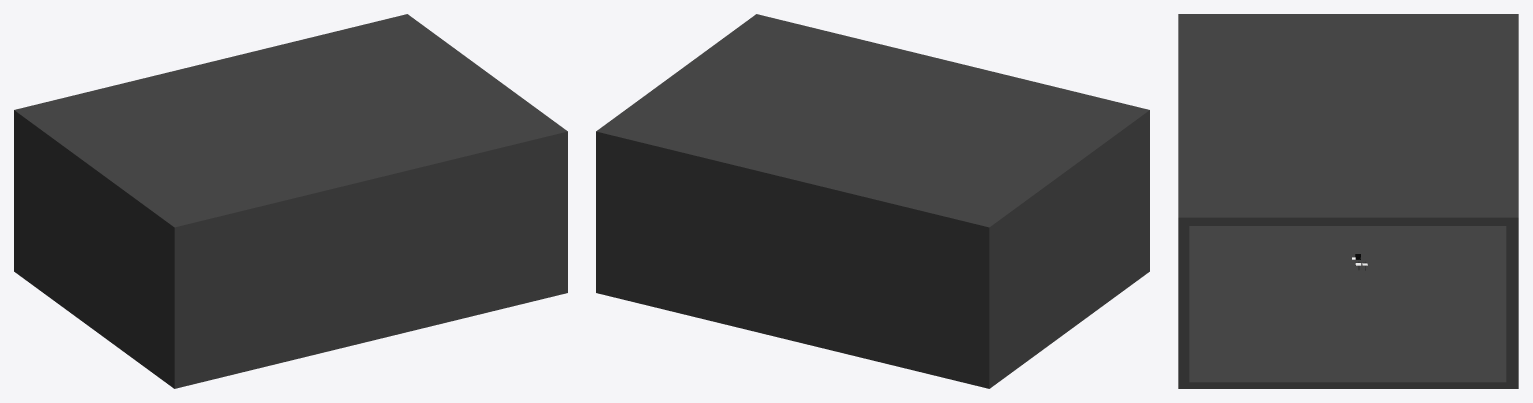
Rendered from Structure.glb.
The picture shows the model from 3 angles, left to right: view 1: azimuth 30°, elevation 25°; view 2: azimuth 150°, elevation 25°; view 3: azimuth 270°, elevation 25°; orthographic projection. The views are drawn at different scales.
Parts seen in each view (by area): view 1: Structure; view 2: Structure; view 3: Structure.
Part boxes in pixels (x1,y1,x2,y2): Structure: (14,14,567,388); Structure: (596,14,1149,388); Structure: (1178,14,1518,388).
Size of the model in its own units: 25.58 by 10.03 by 18.07.
Materials: 10 (4 with a texture image).
